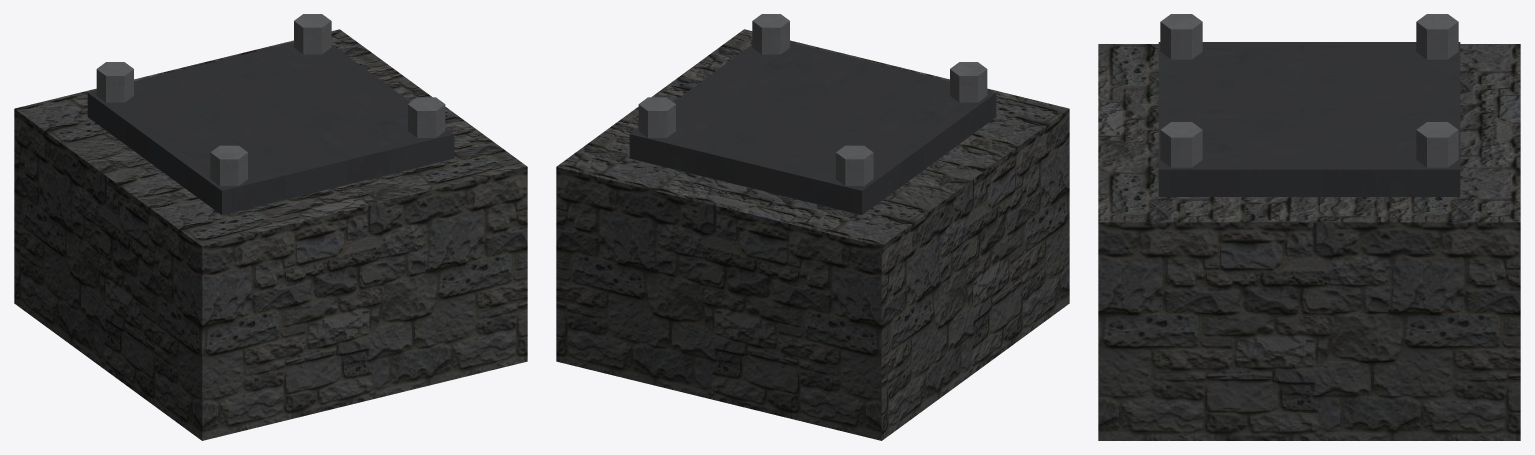
The model's file is lattice_stake_base_01.glb.
3 renders of one model, left to right at view 1: azimuth 30°, elevation 25°; view 2: azimuth 150°, elevation 25°; view 3: azimuth 270°, elevation 25°, orthographic. The views are drawn at different scales.
Parts seen in each view (by area): view 1: lattice_stake_base_01; view 2: lattice_stake_base_01; view 3: lattice_stake_base_01.
Boxes of the visible parts, box(x1,y1,x2,y2) form: lattice_stake_base_01: box(14, 14, 527, 440); lattice_stake_base_01: box(556, 14, 1069, 440); lattice_stake_base_01: box(1098, 14, 1520, 440).
Size of the model in its own units: 1.4 by 1.01 by 1.4.
3 materials, 3 textured.
